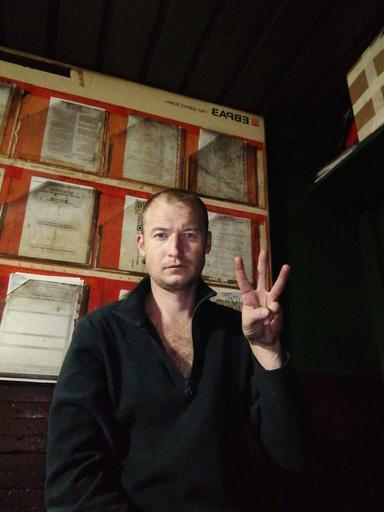three: (229, 245, 293, 353)
